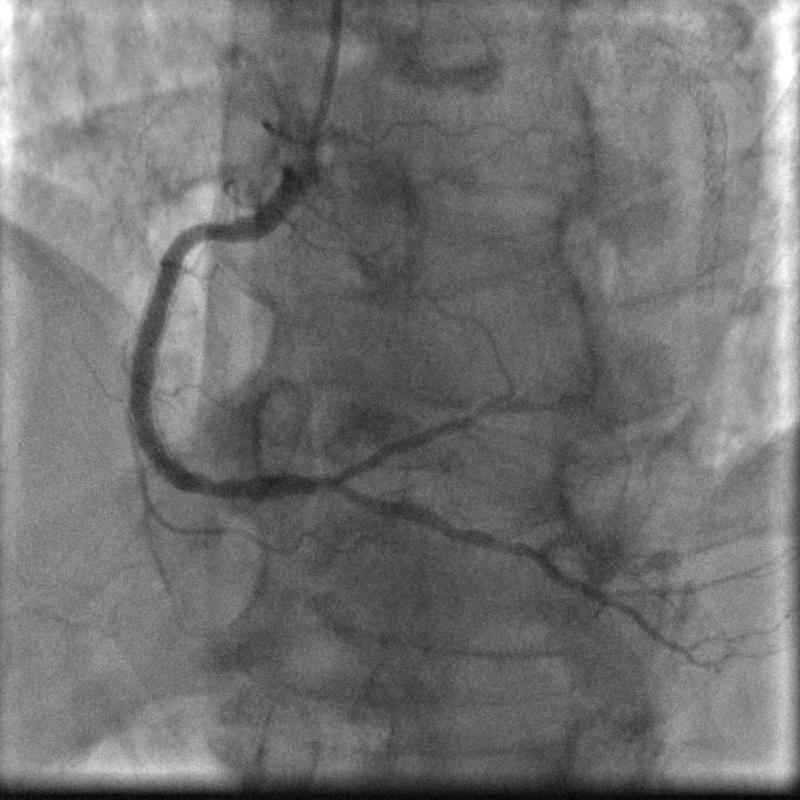Stenosis: (193, 213, 240, 254)
